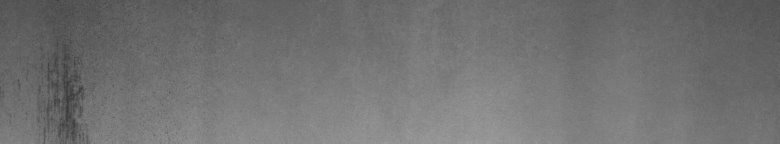ka: (17, 52, 92, 136)
